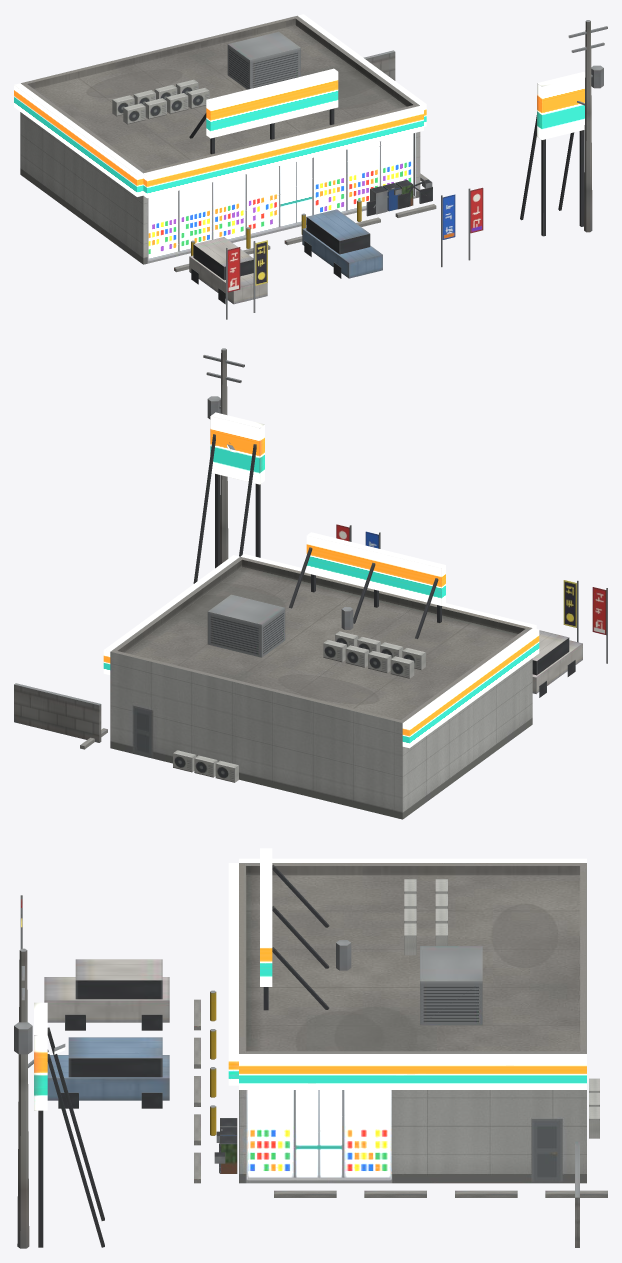
Rendered from tokyo_lowrise_b.glb.
3 renders of one model, top to bottom at view 1: azimuth 30°, elevation 25°; view 2: azimuth 150°, elevation 25°; view 3: azimuth 270°, elevation 25°, orthographic. The views are drawn at different scales.
Visible parts, largest first — view 1: tokyo_lowrise_b; view 2: tokyo_lowrise_b; view 3: tokyo_lowrise_b.
Boxes of the visible parts, bbox=[...] form: tokyo_lowrise_b: bbox=[14, 14, 607, 319]; tokyo_lowrise_b: bbox=[14, 348, 607, 819]; tokyo_lowrise_b: bbox=[14, 848, 607, 1248].
Bounding box in the file's own units: 18.5 × 9.41 × 17.07.
Materials: 1 (1 with a texture image).
